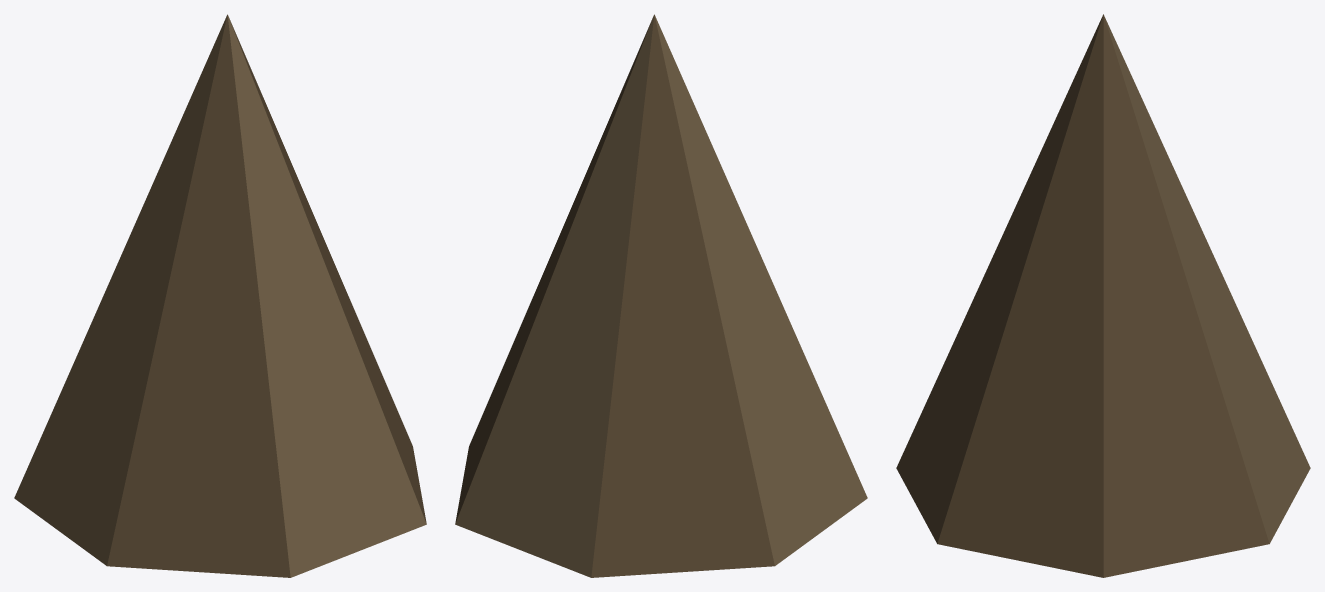
File: taiga-cones.glb
The picture shows the model from 3 angles, left to right: view 1: azimuth 30°, elevation 25°; view 2: azimuth 150°, elevation 25°; view 3: azimuth 270°, elevation 25°; orthographic projection.
Visible parts, largest first — view 1: Сосновые шишки; view 2: Сосновые шишки; view 3: Сосновые шишки.
Part boxes in pixels (<box>): Сосновые шишки: <box>14,14,426,577</box>; Сосновые шишки: <box>455,14,867,577</box>; Сосновые шишки: <box>896,14,1310,577</box>.
Bounding box in the file's own units: 0.1236 × 0.16 × 0.1267.
